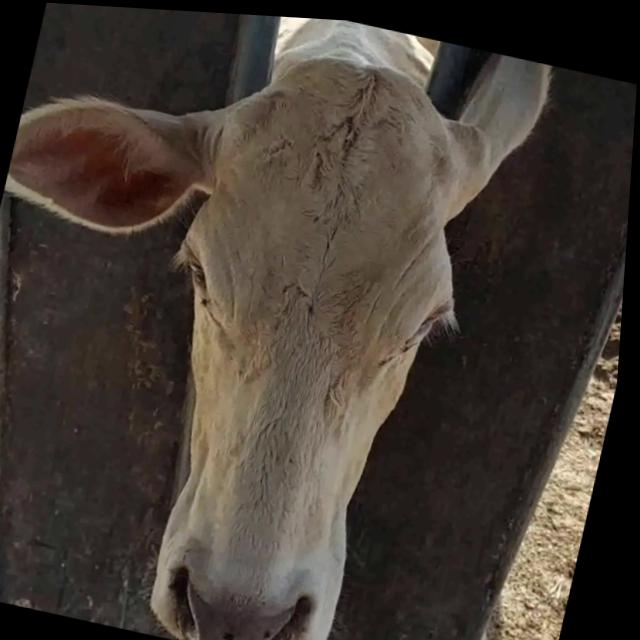cowFace: (104, 18, 497, 640)
